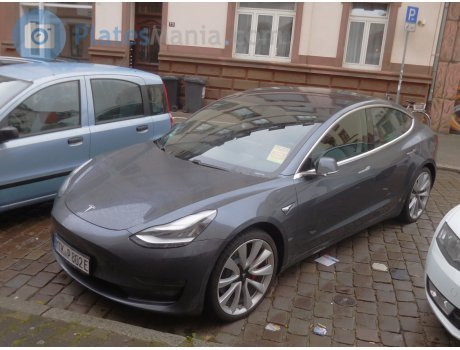License Plates: (56, 241, 82, 260)
